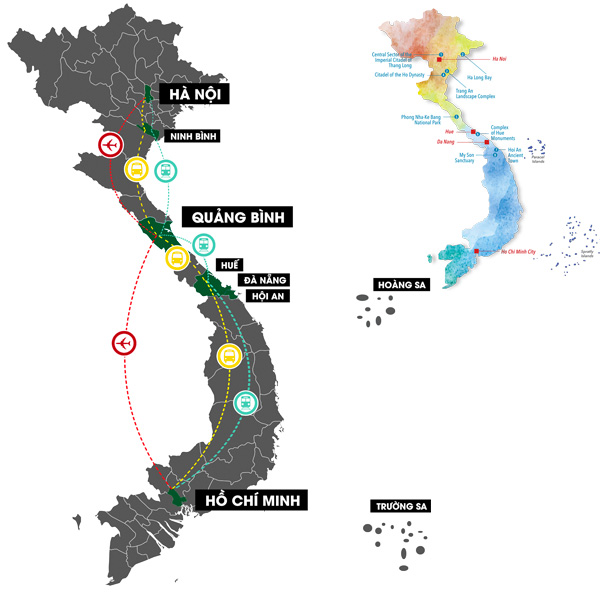Island: (362, 496, 437, 576), (348, 266, 431, 334), (536, 205, 598, 280), (522, 126, 552, 171)
